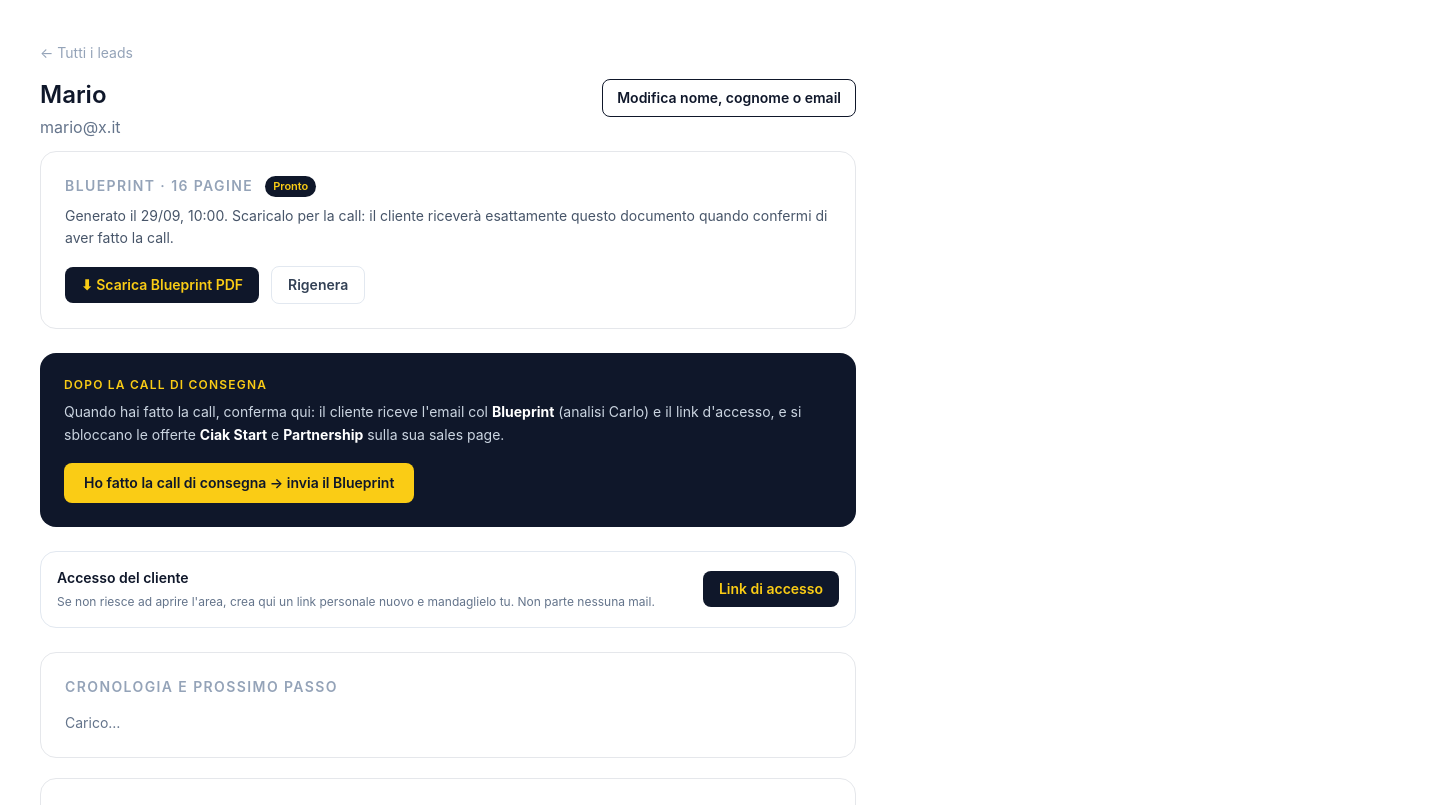
recupero accesso del cliente › se il lead ha un account cliente, «Link di accesso» crea il link senza mandare mail
Click the button "Link di accesso" at x=771, y=589, box [703, 571, 839, 607]
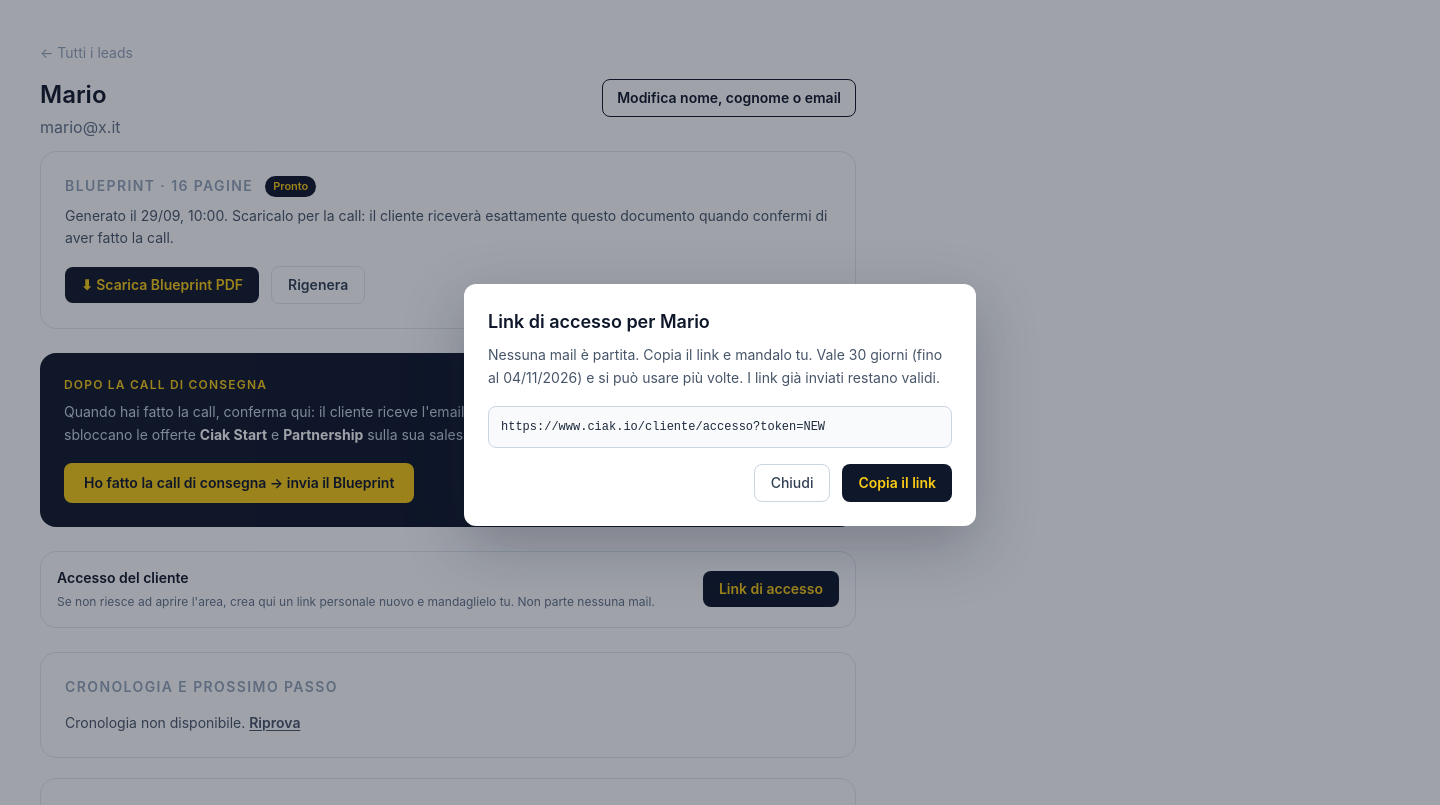
Now the field named "Link di accesso" holds "https://www.ciak.io/cliente/accesso?token=NEW", box [488, 406, 952, 448]
Now the text "Nessuna mail è partita" is shown, box [488, 346, 908, 363]
